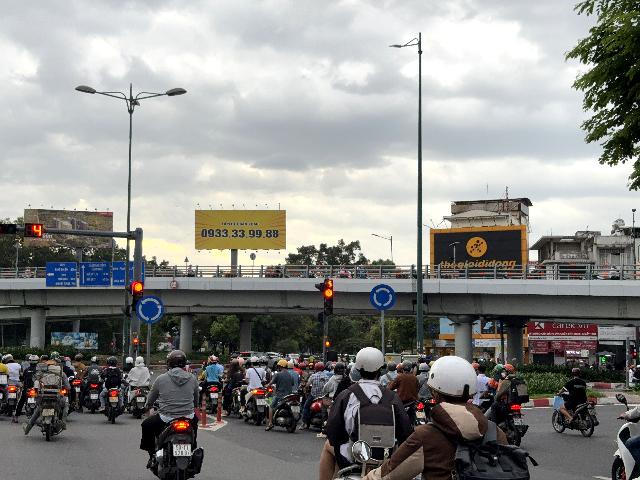noi-giao-nhau-chay-theo-vong-xuyen: (135, 295, 164, 323), (369, 284, 395, 310)
